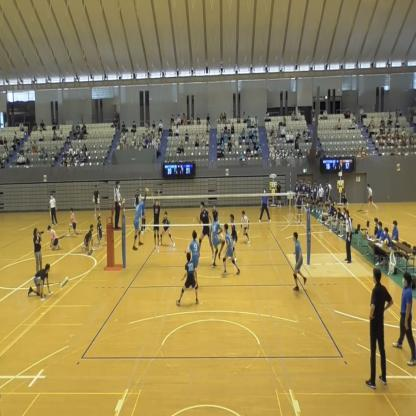spike: (132, 183, 150, 256)
